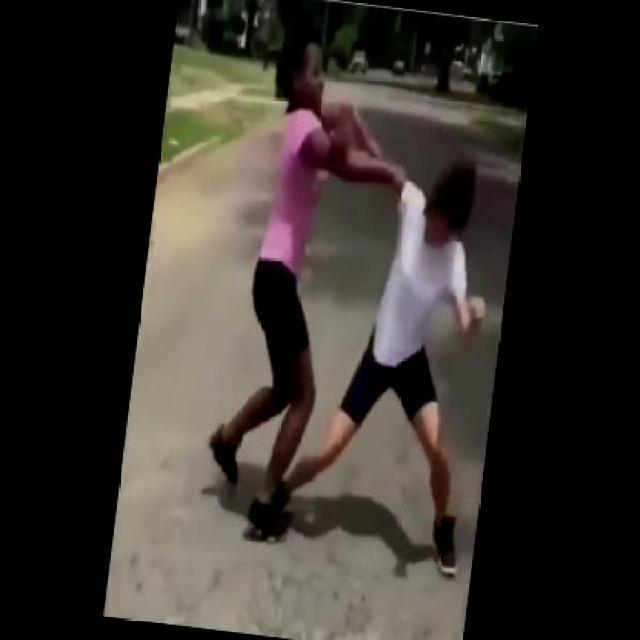fight: (213, 23, 522, 580)
